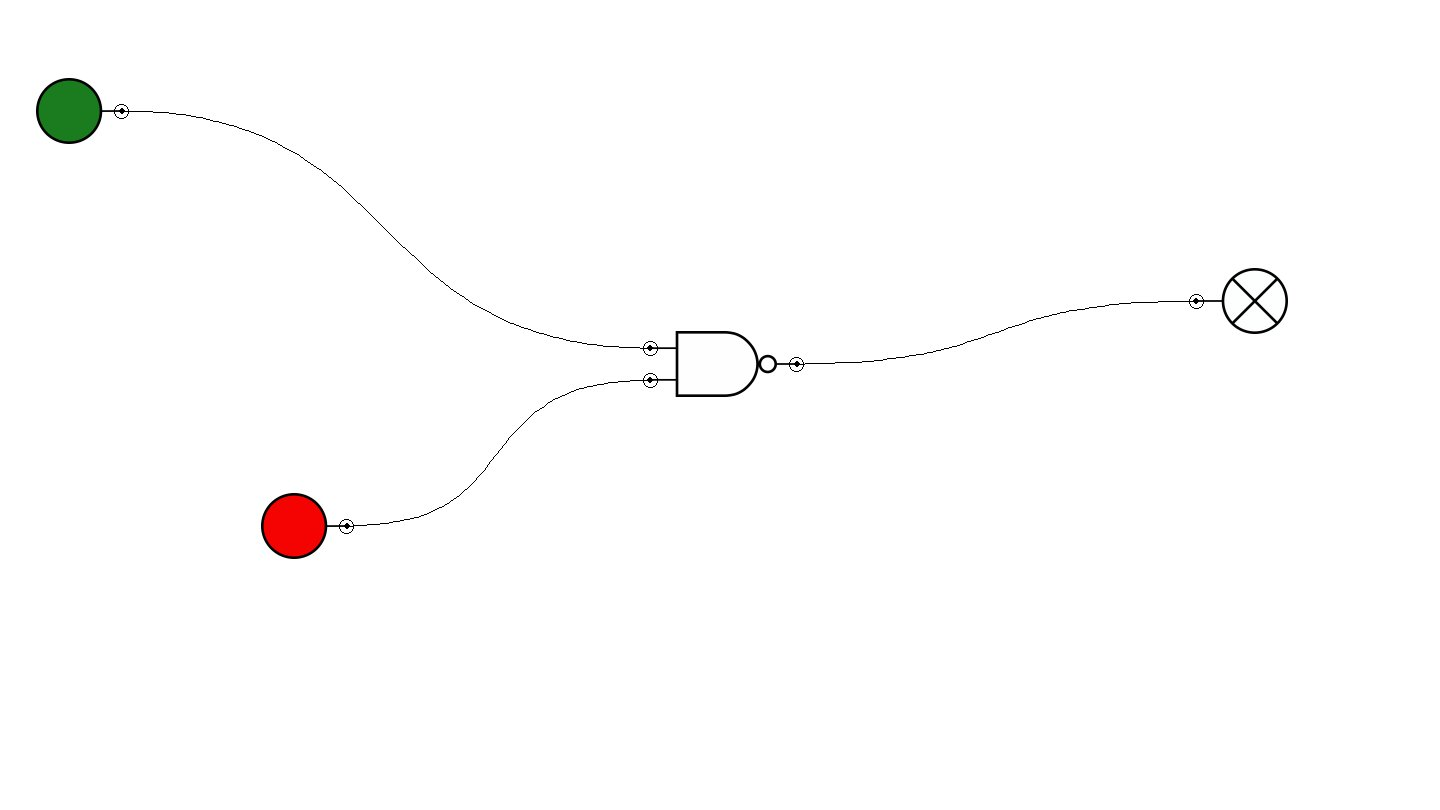bulb: (1189, 268, 1288, 334)
nand: (643, 331, 804, 397)
switch_False: (261, 493, 354, 559)
switch_True: (36, 78, 129, 144)
